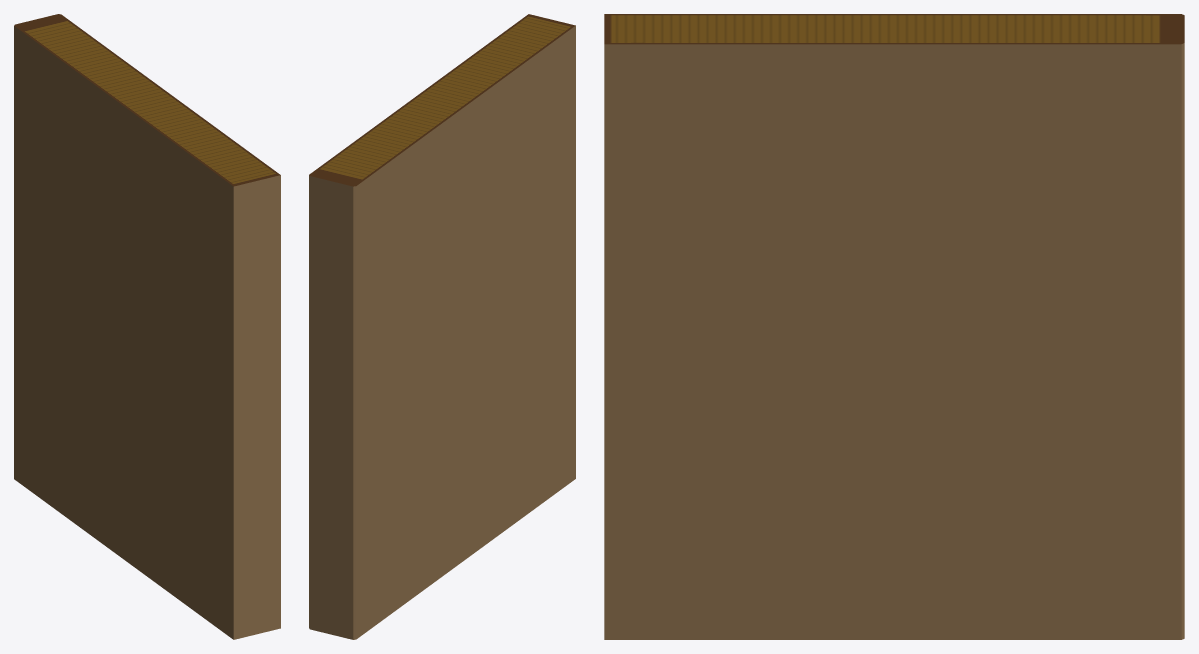
The model's file is ShelfBook.glb.
3 renders of one model, left to right at view 1: azimuth 30°, elevation 25°; view 2: azimuth 150°, elevation 25°; view 3: azimuth 270°, elevation 25°, orthographic. The views are drawn at different scales.
Parts seen in each view (by area): view 1: ShelfBook; view 2: ShelfBook; view 3: ShelfBook.
Boxes of the visible parts, x1,y1,x2,y2 form: ShelfBook: [14, 14, 280, 639]; ShelfBook: [309, 14, 575, 639]; ShelfBook: [604, 14, 1184, 639].
Size of the model in its own units: 0.037 by 0.34 by 0.3.
Materials: 2 (1 with a texture image).
